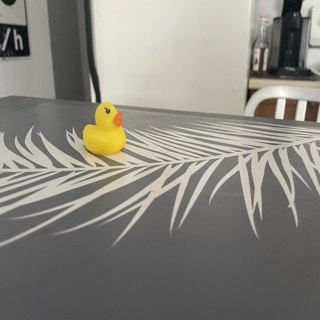duck_regular: (81, 103, 124, 152)
